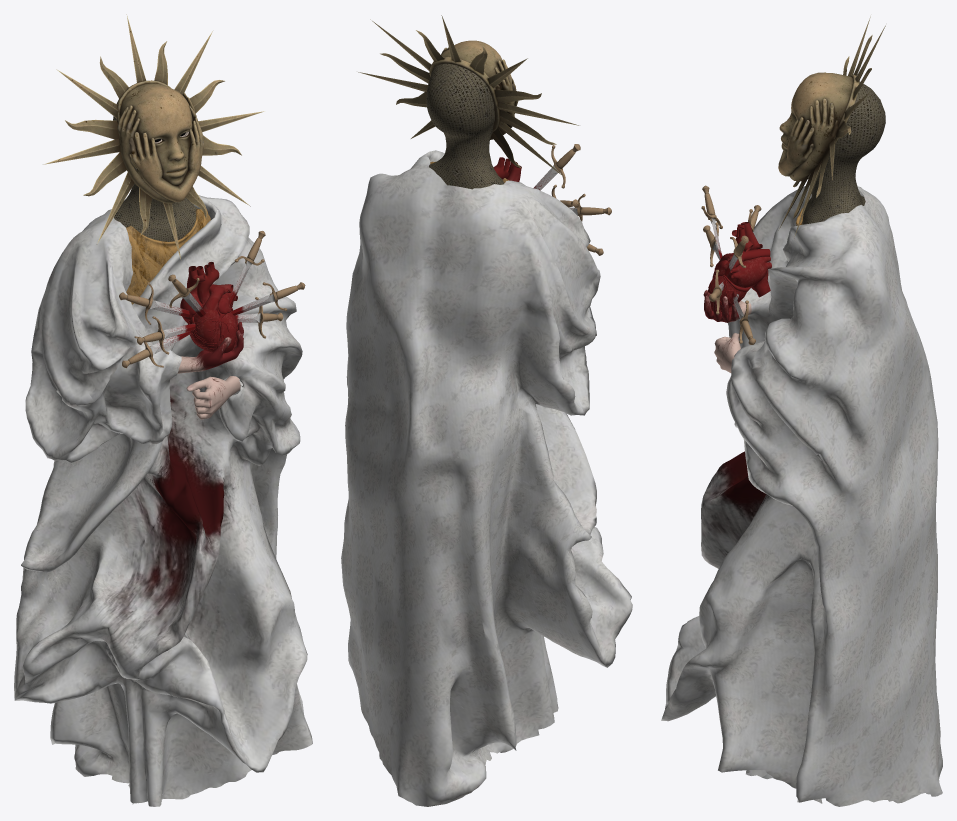
Rendered from sol.glb.
3 views of the same model, side by side, from view 1: azimuth 30°, elevation 25°; view 2: azimuth 150°, elevation 25°; view 3: azimuth 270°, elevation 25° (orthographic).
Parts seen in each view (by area): view 1: sol_robe, sol_gold, sol_dagger, sol_wire_224086086, sol_Material_001, sol_armor; view 2: sol_robe, sol_gold, sol_dagger; view 3: sol_robe, sol_gold, sol_wire_224086086, sol_dagger, sol_Material_001.
Part boxes in pixels (x1,y1,x2,y2): sol_robe: [14, 195, 312, 806]; sol_gold: [43, 14, 264, 260]; sol_dagger: [119, 231, 305, 368]; sol_wire_224086086: [180, 262, 237, 353]; sol_Material_001: [177, 322, 243, 419]; sol_armor: [126, 209, 210, 304]; sol_robe: [341, 150, 632, 806]; sol_gold: [358, 15, 579, 189]; sol_dagger: [444, 133, 611, 255]; sol_robe: [661, 185, 942, 806]; sol_gold: [778, 16, 885, 236]; sol_wire_224086086: [708, 222, 771, 311]; sol_dagger: [701, 185, 761, 344]; sol_Material_001: [703, 290, 751, 372].
Bounding box in the file's own units: 0.6791 × 1.77 × 0.5872.
8 materials, 6 textured.
